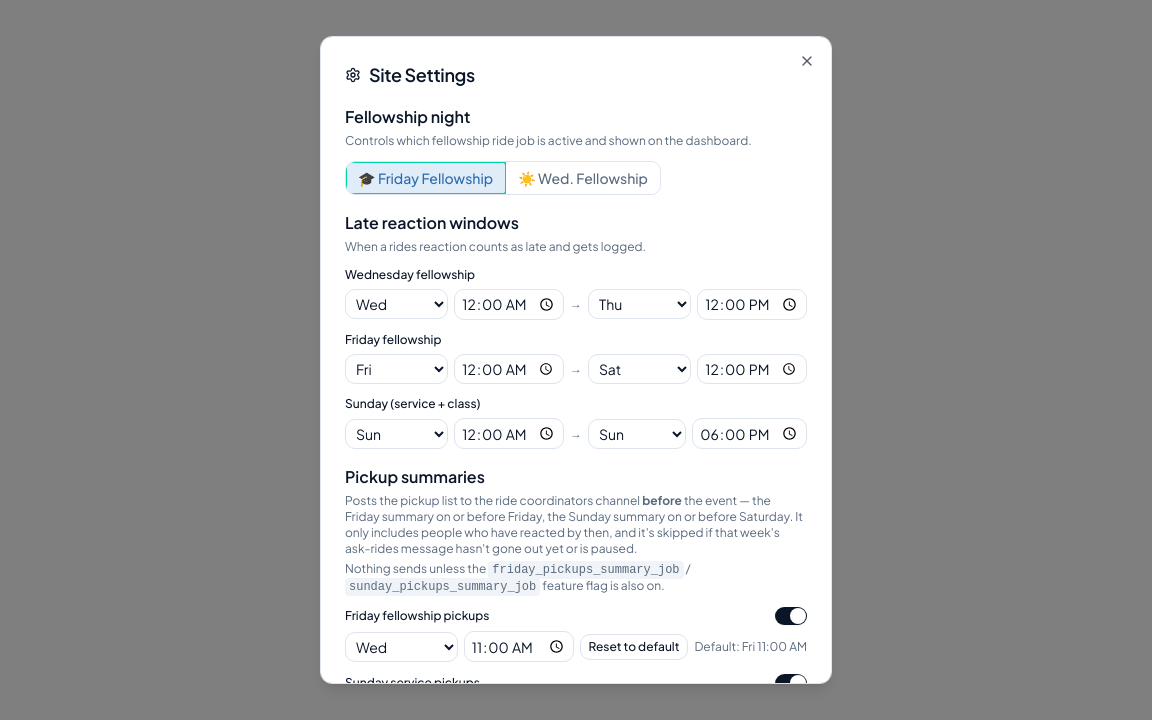
Test: SiteSettingsDialog - Pickup summaries › shows Reset to default only when customized, and reset sends a DELETE
Expected: the text "Friday fellowship pickups" is shown, x1=345 y1=608 x2=490 y2=624
Click the button "Reset to default": (634, 647) x1=580 y1=634 x2=688 y2=660
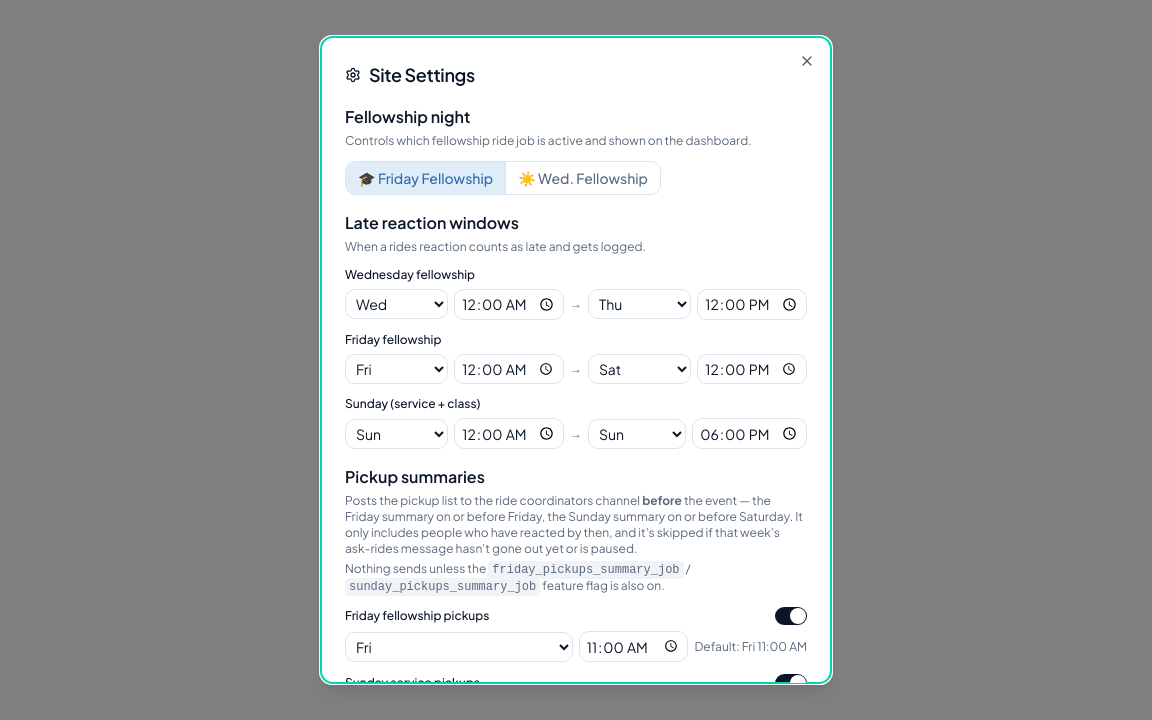
Expected: the button "Reset to default" is gone
